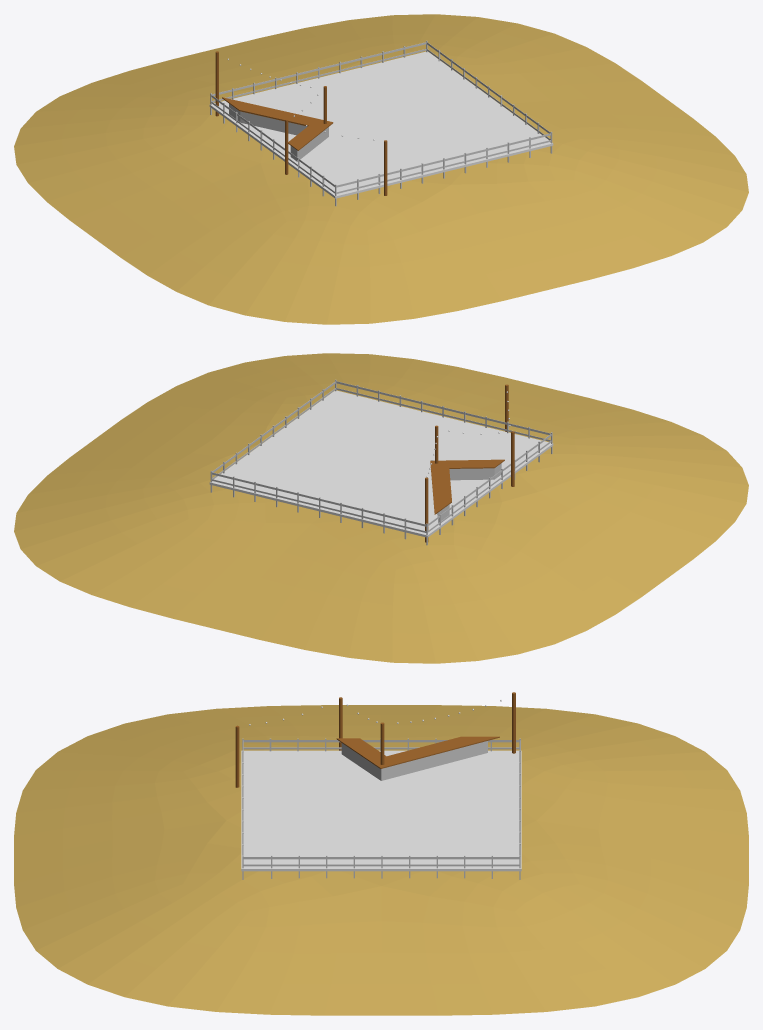
File: Environment.fbx
3 views of the same model, one above another, from view 1: azimuth 30°, elevation 25°; view 2: azimuth 150°, elevation 25°; view 3: azimuth 270°, elevation 25° (orthographic). The views are drawn at different scales.
Visible parts, largest first — view 1: Sand, Floor, Construction.003, Top, Construction.001, Base, Construction.000, Construction.002; view 2: Sand, Floor, Construction.001, Top, Construction.003, Construction.000, Construction.002, Base; view 3: Sand, Floor, Construction.002, Base, Top, Construction.000.
Boxes of the visible parts, left/top/right/bottom form: Sand: left=14, top=14, right=748, bottom=324; Floor: left=209, top=51, right=553, bottom=198; Construction.003: left=336, top=131, right=552, bottom=199; Top: left=222, top=97, right=333, bottom=150; Construction.001: left=210, top=42, right=426, bottom=114; Base: left=229, top=104, right=328, bottom=161; Construction.000: left=211, top=95, right=336, bottom=206; Construction.002: left=426, top=40, right=550, bottom=140; Sand: left=14, top=353, right=748, bottom=663; Floor: left=209, top=390, right=553, bottom=537; Construction.001: left=212, top=472, right=427, bottom=545; Top: left=430, top=459, right=504, bottom=514; Construction.003: left=335, top=379, right=550, bottom=441; Construction.000: left=428, top=432, right=552, bottom=534; Construction.002: left=210, top=381, right=335, bottom=492; Base: left=437, top=463, right=501, bottom=522; Sand: left=14, top=705, right=748, bottom=1015; Floor: left=241, top=750, right=521, bottom=871; Construction.002: left=243, top=855, right=520, bottom=879; Base: left=341, top=741, right=487, bottom=780; Top: left=336, top=736, right=499, bottom=768; Construction.000: left=242, top=738, right=519, bottom=751.
Size of what is drawn, in the model's own units: 2625 by 440 by 2625.
